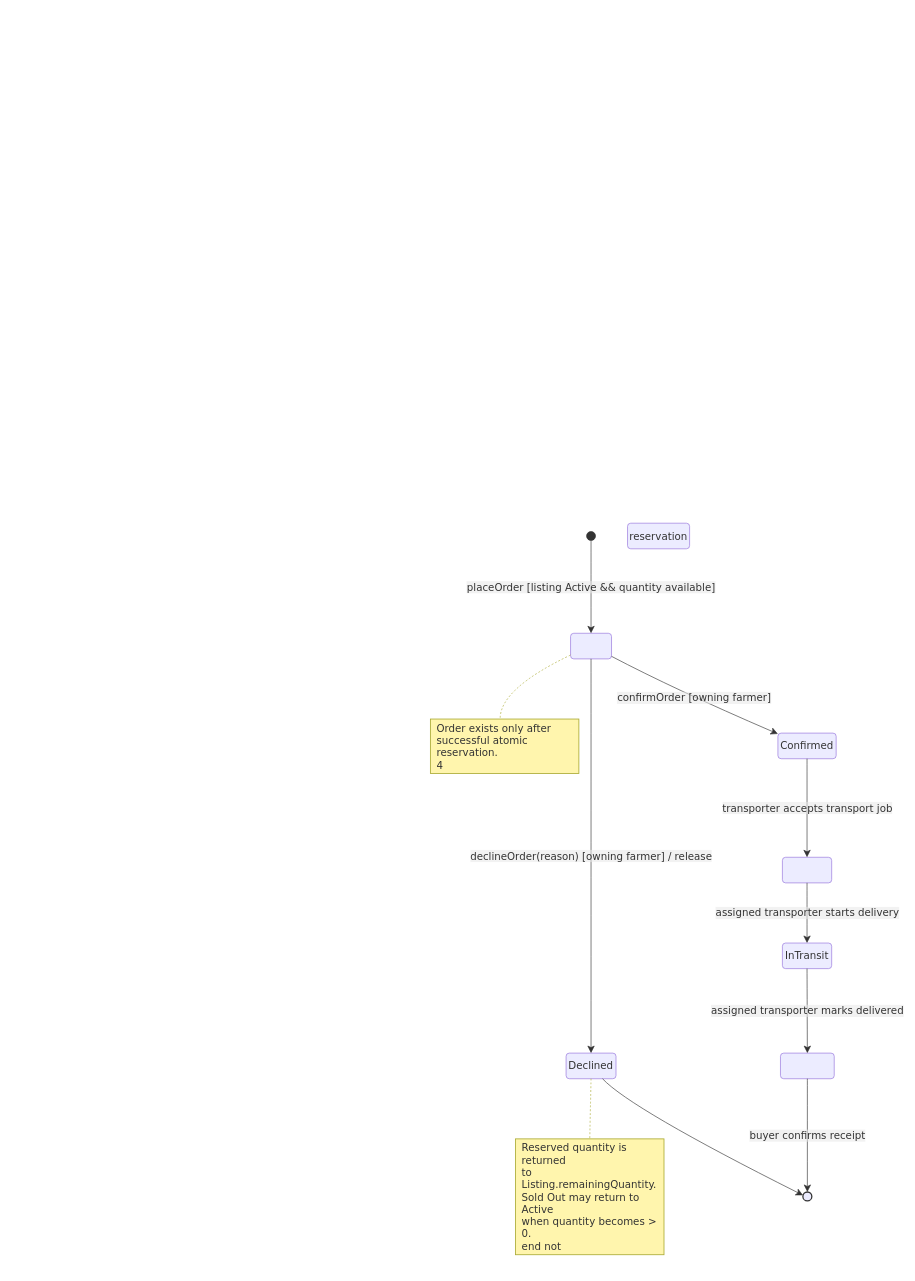
Some shapes in this 915 by 1281 pixel diagram are drawn without their labels. The centre of each missing label's shape, as x and y in pixels:
"Assigned" goes at (x=807, y=870).
"Delivered" goes at (x=807, y=1065).
"Placed" goes at (x=591, y=646).
